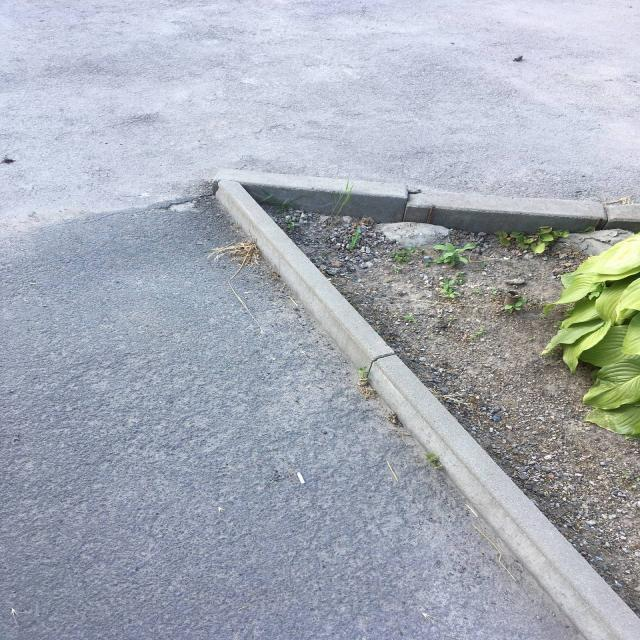bump: (286, 164, 640, 240), (372, 348, 515, 523), (497, 487, 640, 640), (279, 249, 402, 388), (205, 162, 302, 269)
